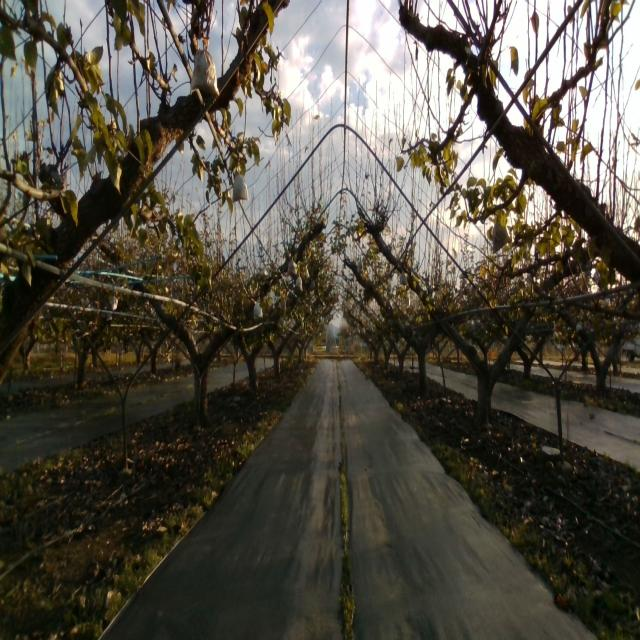pearbags: (190, 48, 220, 99), (492, 215, 510, 255), (231, 167, 250, 204), (253, 300, 263, 321)
